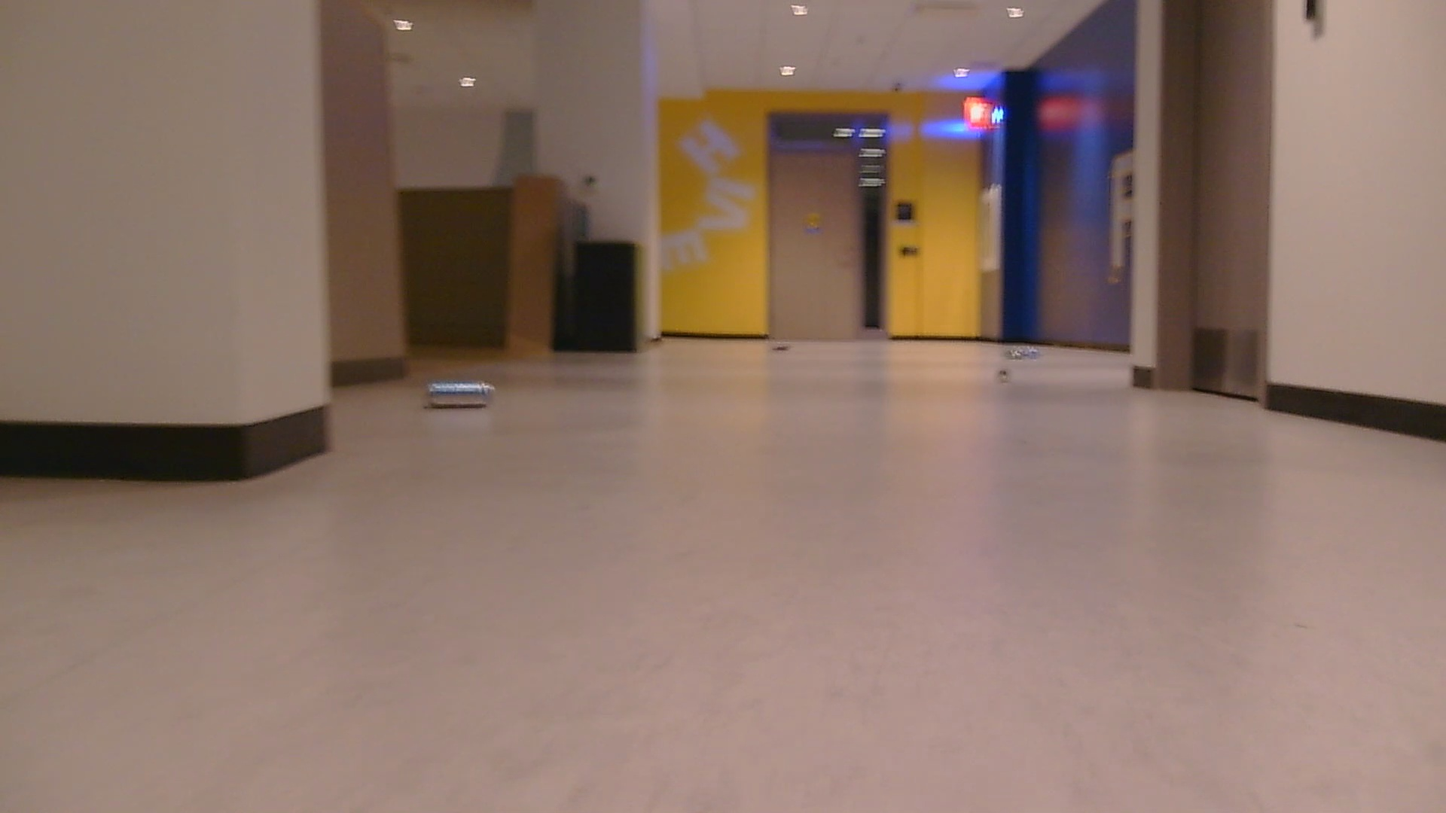carton: (420, 366, 508, 415), (996, 342, 1053, 362), (770, 340, 791, 354), (996, 366, 1012, 378)
